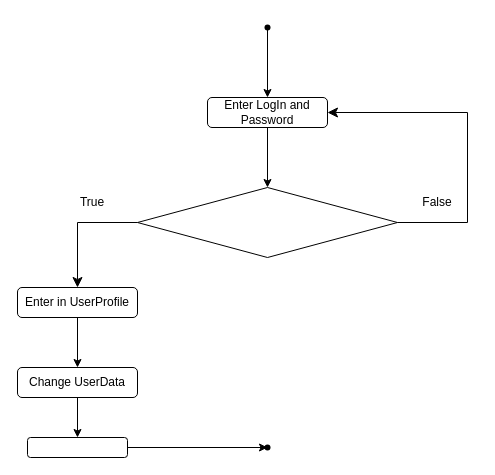
The diagram is 495 pixels wide and 475 high, and some of its shapes have lost their labels. Each missing label, with the centre of its shape:
Check: LogI == LogIn_s Password == Password_s: [267,222]
Save Changes: [77,447]
